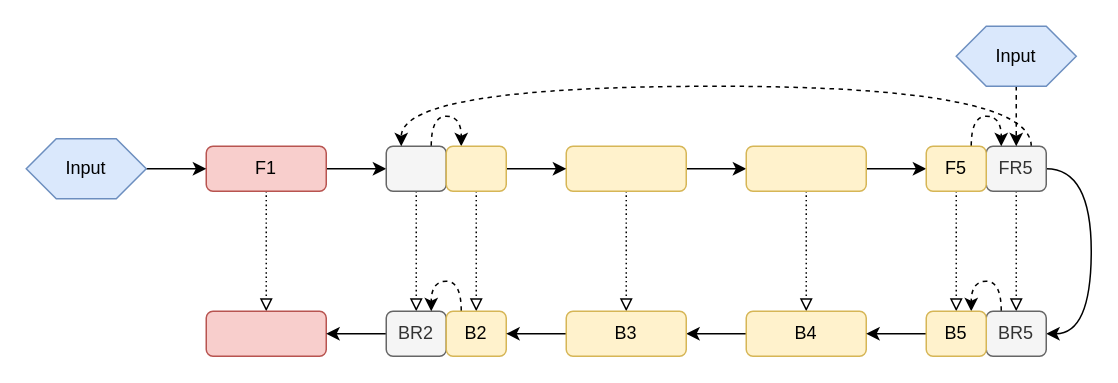
Some shapes in this 1118 by 383 pixel diagram are drawn without their labels. Here are the shapes that lost their labels. From the top down, the box of each, then its label:
(385, 145, 446, 191): FR2
(445, 145, 506, 191): F2
(565, 145, 686, 191): F3
(745, 145, 866, 191): F4
(205, 310, 326, 356): B1
